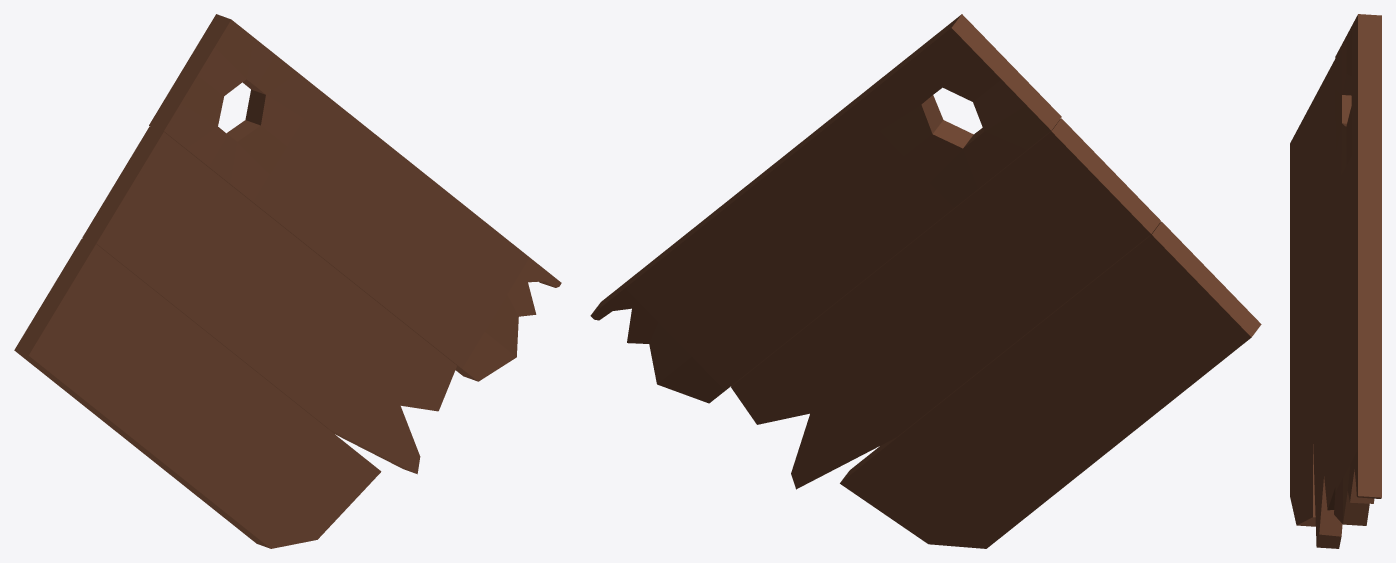
Rendered from tabela.fbx.
3 renders of one model, left to right at view 1: azimuth 30°, elevation 25°; view 2: azimuth 150°, elevation 25°; view 3: azimuth 270°, elevation 25°, orthographic. The views are drawn at different scales.
Parts seen in each view (by area): view 1: TABELA; view 2: TABELA; view 3: TABELA.
Part boxes in pixels (bbox=[...]): TABELA: bbox=[14, 14, 561, 548]; TABELA: bbox=[590, 14, 1261, 548]; TABELA: bbox=[1290, 14, 1381, 548].
Bounding box in the file's own units: 331 × 284 × 48.19.
